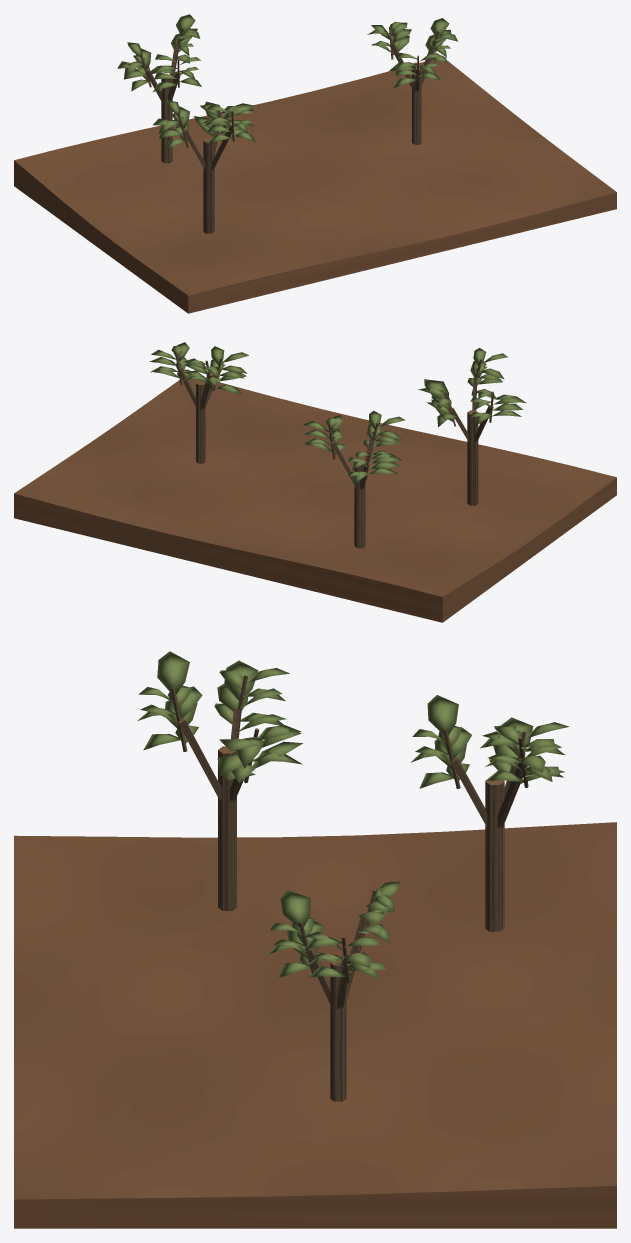
The picture shows the model from 3 angles, top to bottom: view 1: azimuth 30°, elevation 25°; view 2: azimuth 150°, elevation 25°; view 3: azimuth 270°, elevation 25°; orthographic projection. The views are drawn at different scales.
Parts seen in each view (by area): view 1: doha; view 2: doha; view 3: doha.
Part boxes in pixels (box(x1,y1,x2,y2)): doha: box(14, 14, 616, 313); doha: box(14, 342, 616, 622); doha: box(14, 651, 616, 1228).
Size of the model in its own units: 7.1 by 2.46 by 5.
1 material, 1 textured.
